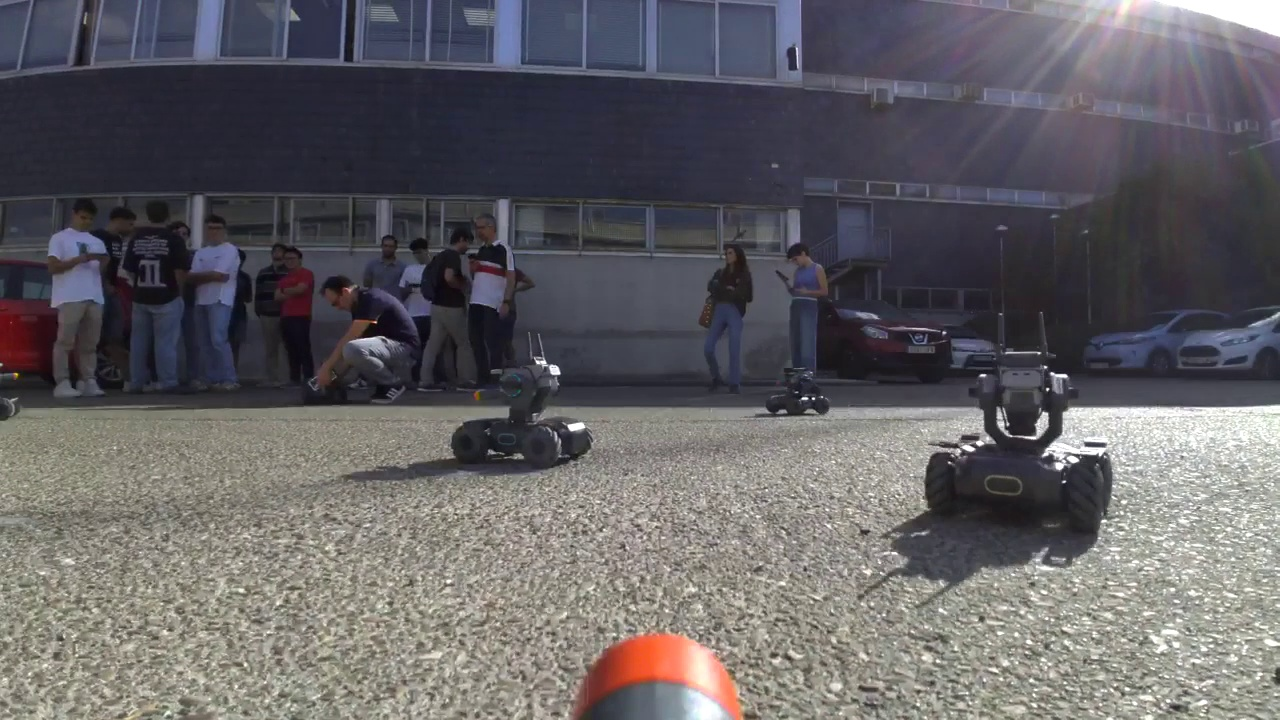robot: (919, 310, 1116, 542), (448, 327, 595, 469), (767, 366, 830, 417), (2, 355, 17, 430)
